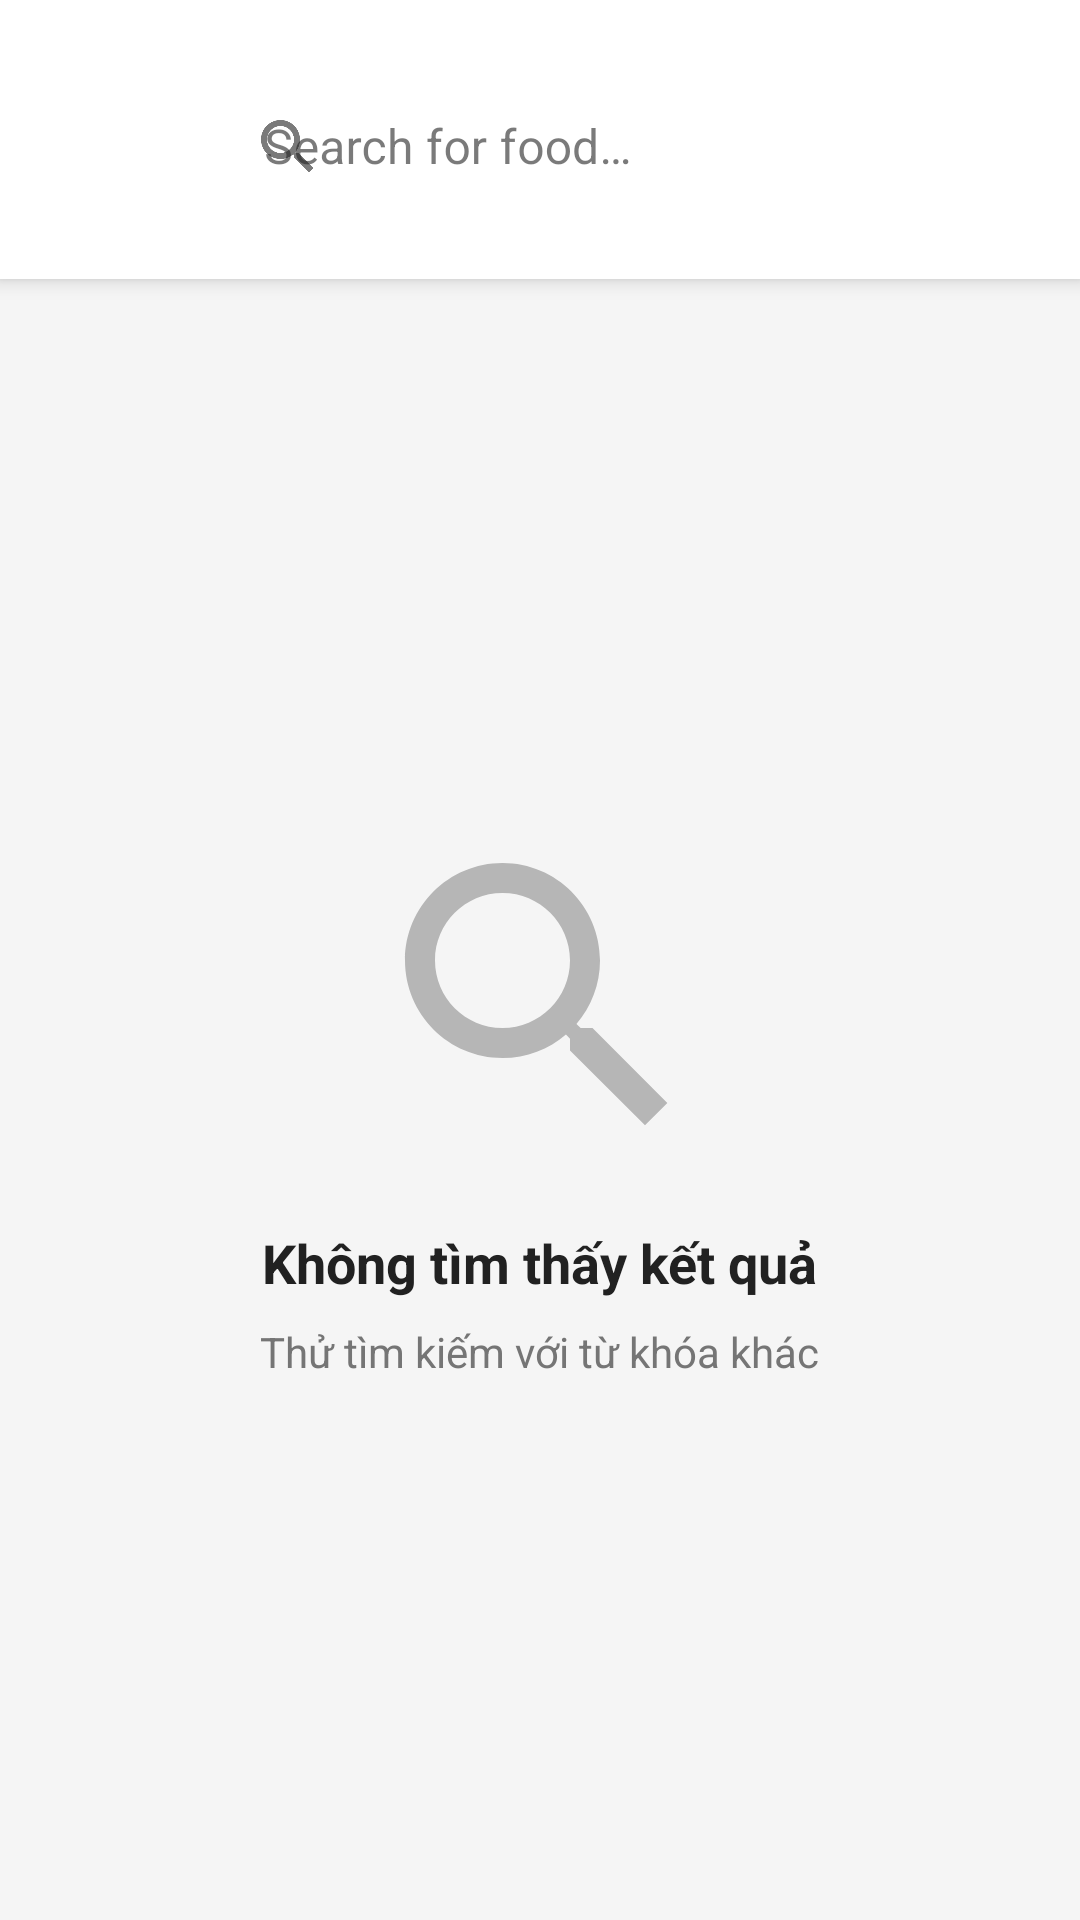

Locate icon controls on the screen. Image size 1080px x 1920px, boxes as box(x1, y1, x2, y2).
Biểu tượng tìm kiếm: box(405, 863, 667, 1125)
